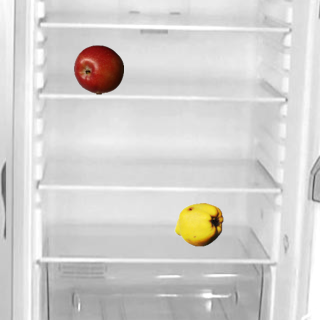Apple Braeburn: (73, 44, 123, 94)
Quince: (173, 199, 223, 249)
